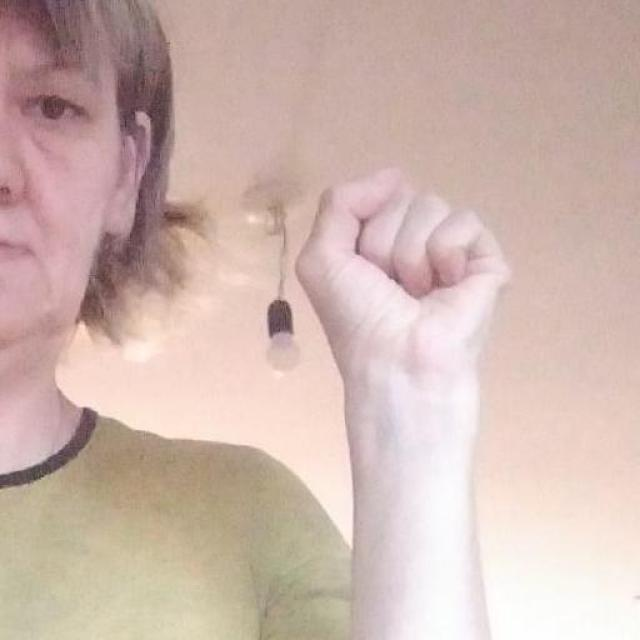hand: (295, 164, 513, 448)
